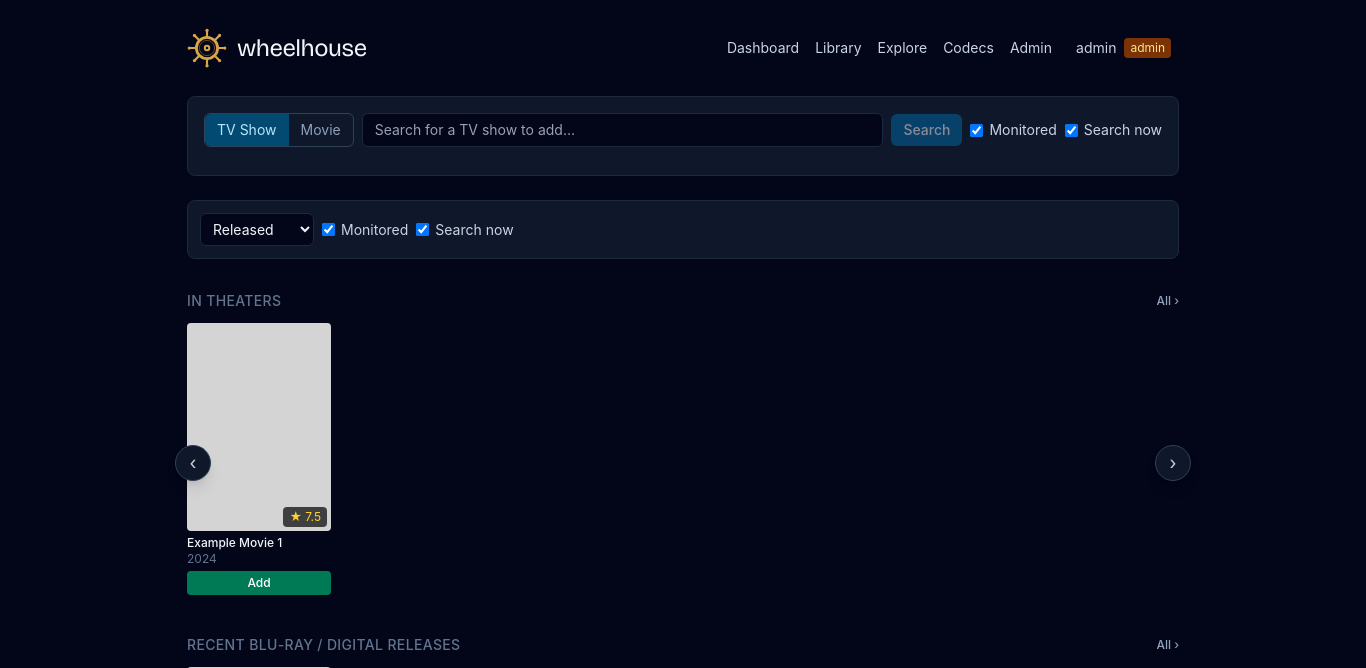
Test case: Explore › shows the server's error when an add fails, and keeps the dialog open
The image size is (1366, 668).
Click the button "Add".
click(259, 583)  # box [187,571,331,595]
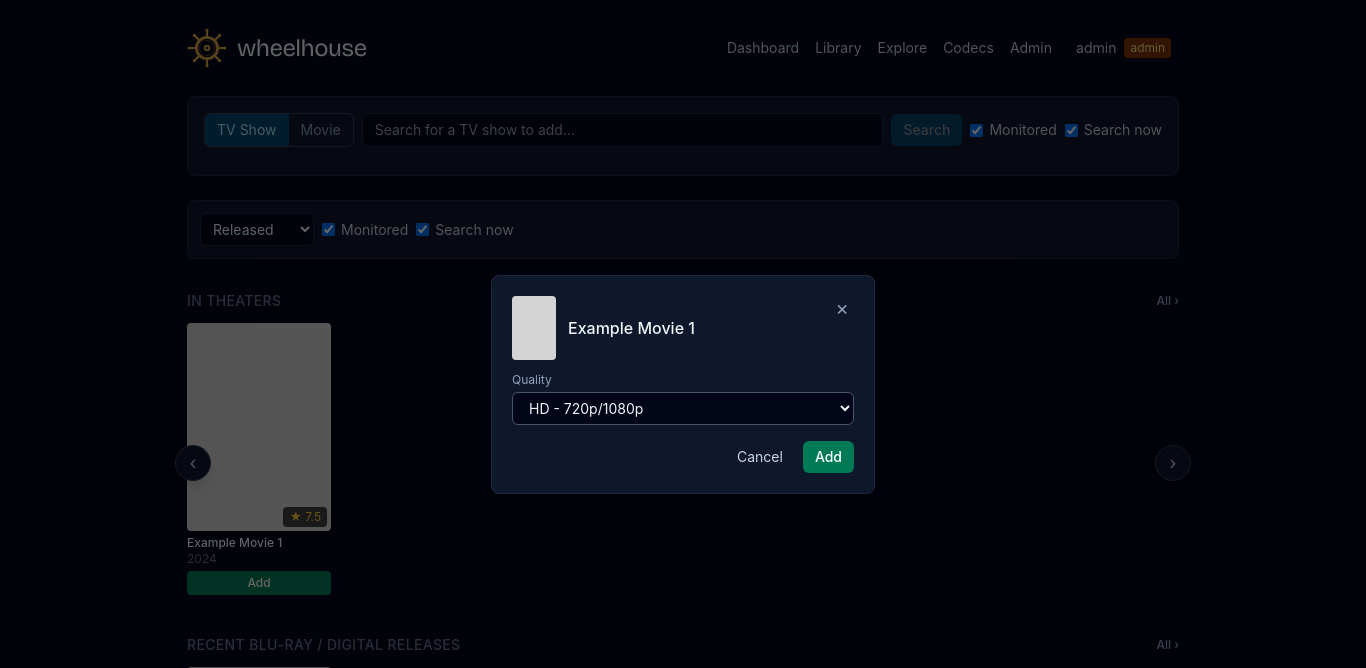
Click the button "Add".
click(828, 456)  # box [803,440,854,472]
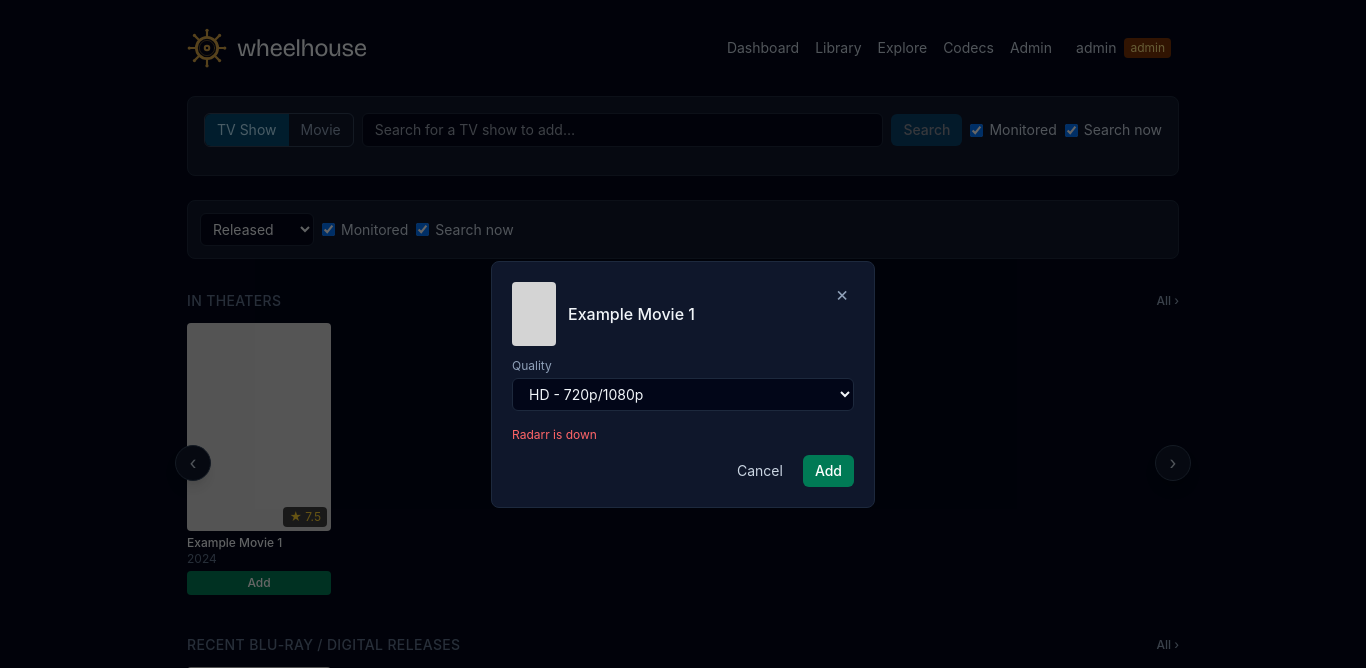
Now the text "Radarr is down" is shown, box [512,426,597,442]
